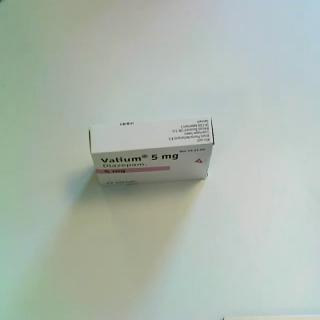valium5mg: (87, 114, 216, 189)
